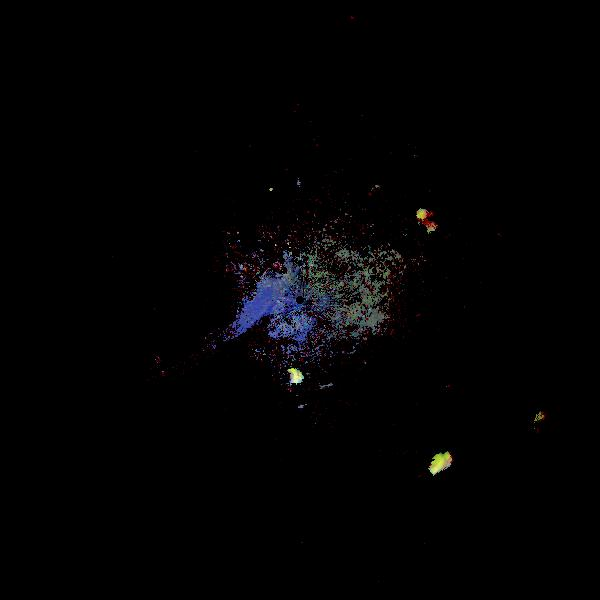roost: (529, 402, 577, 450), (426, 448, 465, 487), (283, 365, 304, 386), (416, 209, 431, 224), (269, 188, 275, 194)
